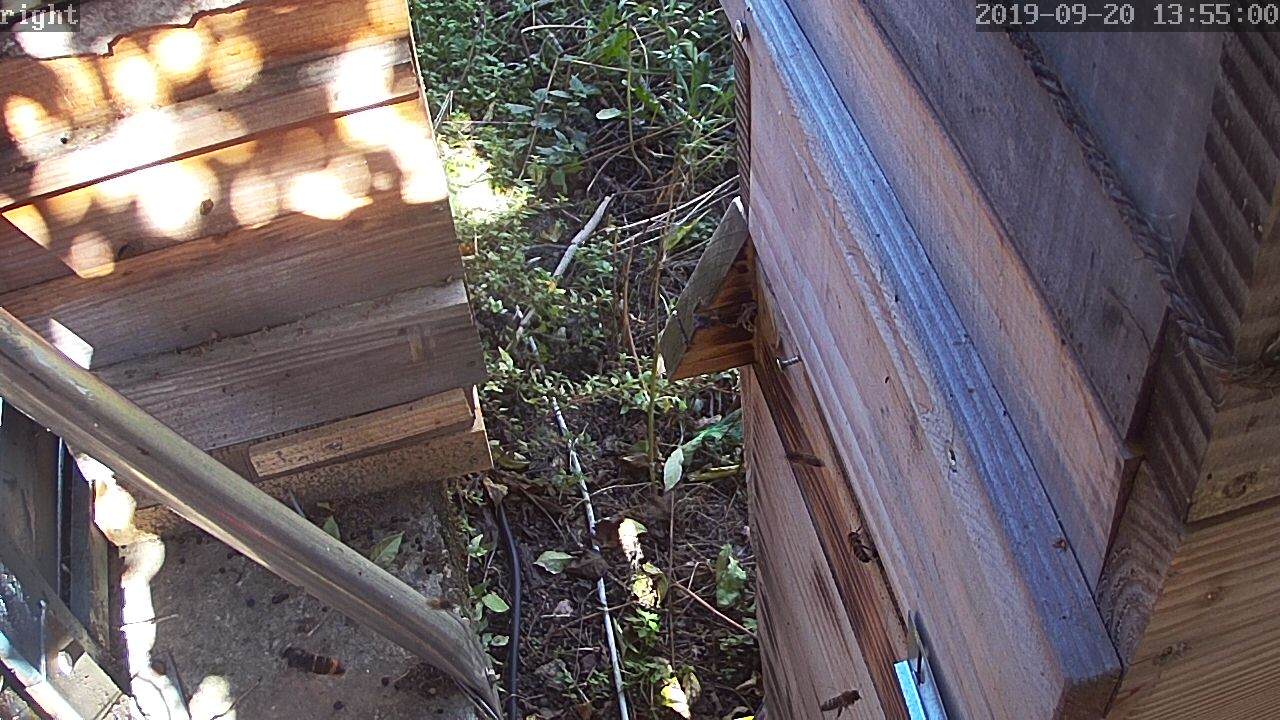bee: (822, 684, 865, 720), (846, 526, 872, 564)
hornet: (276, 640, 348, 679)
